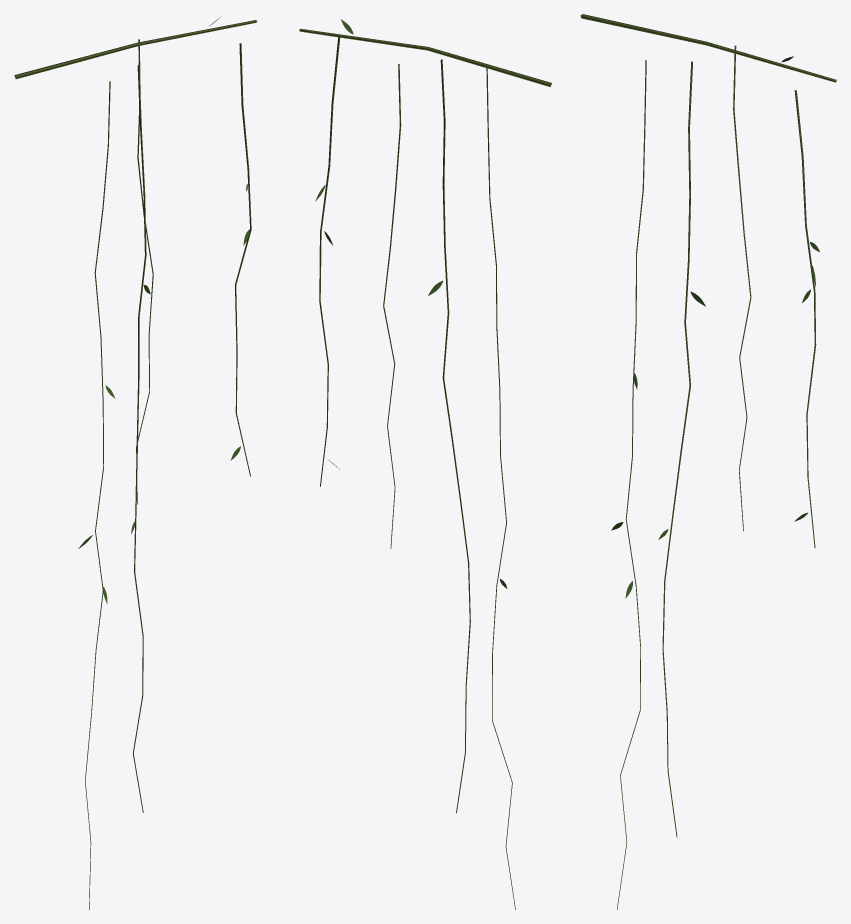
Rendered from liana_hang_curtain_05_lod2.gltf.
3 renders of one model, left to right at view 1: azimuth 30°, elevation 25°; view 2: azimuth 150°, elevation 25°; view 3: azimuth 330°, elevation 25°, orthographic. The views are drawn at different scales.
Parts seen in each view (by area): view 1: liana_hang_curtain_05; view 2: liana_hang_curtain_05; view 3: liana_hang_curtain_05.
Boxes of the visible parts, bbox=[...] form: liana_hang_curtain_05: bbox=[14, 16, 257, 909]; liana_hang_curtain_05: bbox=[299, 19, 551, 909]; liana_hang_curtain_05: bbox=[580, 14, 836, 909].
Size of the model in its own units: 1.69 by 5.61 by 0.5098.
Materials: 2 (2 with a texture image).
